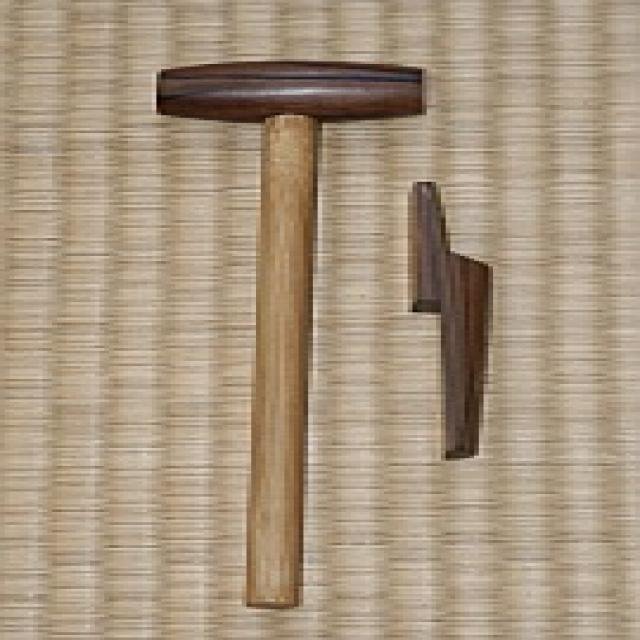hammer: (145, 51, 433, 614)
